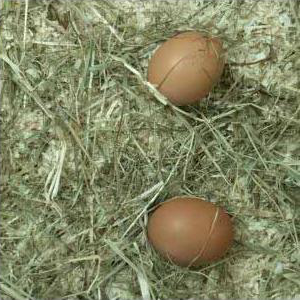egg: (146, 197, 234, 266), (147, 31, 226, 106)
